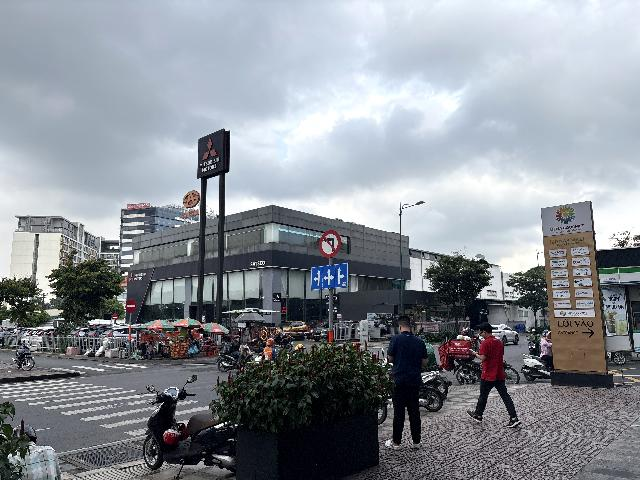cam-di-nguoc-chieu: (125, 298, 137, 312)
cam-re-trai: (319, 230, 342, 258)
